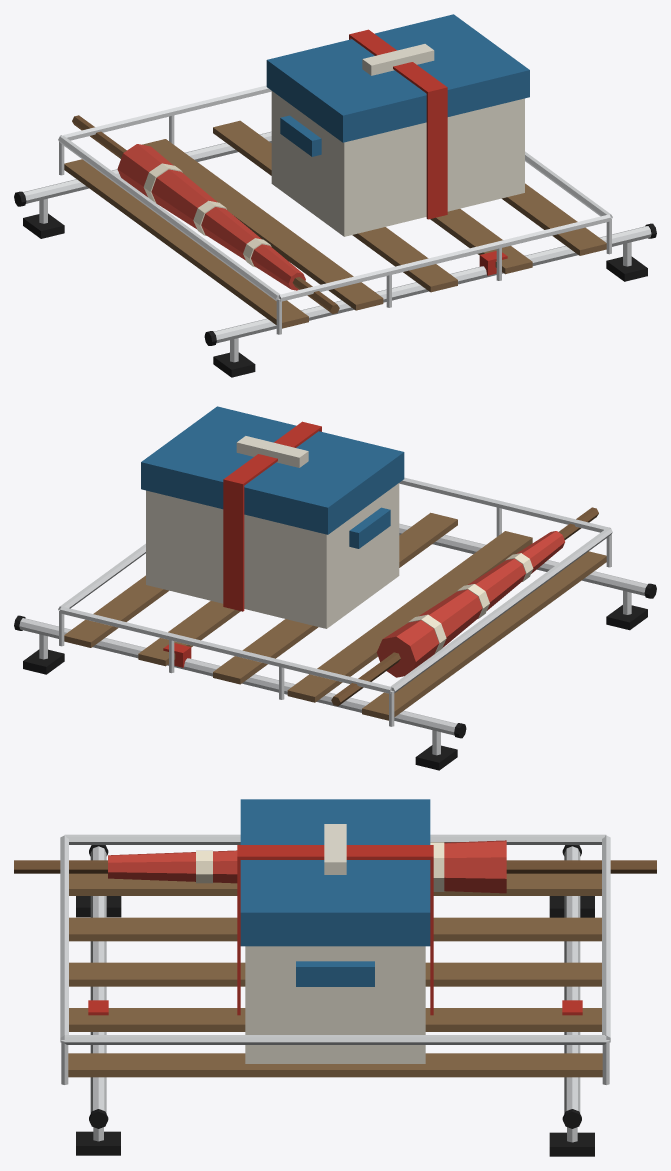
Rendered from roofrack_esky_modern.glb.
3 renders of one model, top to bottom at view 1: azimuth 30°, elevation 25°; view 2: azimuth 150°, elevation 25°; view 3: azimuth 270°, elevation 25°, orthographic. The views are drawn at different scales.
Parts seen in each view (by area): view 1: Esky, Basket, Umbrella, RoofRack, Straps; view 2: Esky, Basket, Umbrella, RoofRack, Straps; view 3: Basket, Esky, Umbrella, RoofRack, Straps.
Part boxes in pixels (x1=…): Esky: x1=266, y1=14, x2=529, y2=236; Basket: x1=58, y1=85, x2=612, y2=334; Umbrella: x1=72, y1=115, x2=339, y2=313; RoofRack: x1=14, y1=131, x2=656, y2=377; Straps: x1=349, y1=29, x2=507, y2=275; Esky: x1=141, y1=406, x2=404, y2=628; Basket: x1=58, y1=477, x2=612, y2=726; Umbrella: x1=331, y1=507, x2=598, y2=705; RoofRack: x1=14, y1=523, x2=656, y2=770; Straps: x1=163, y1=421, x2=321, y2=667; Basket: x1=60, y1=834, x2=610, y2=1084; Esky: x1=240, y1=799, x2=430, y2=1063; Umbrella: x1=14, y1=840, x2=656, y2=893; RoofRack: x1=76, y1=845, x2=594, y2=1156; Straps: x1=88, y1=845, x2=582, y2=1015.
Bounding box in the file's own units: 1.13 × 0.441 × 1.14.
